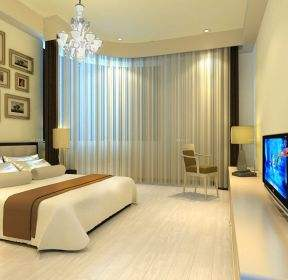床: (0, 169, 135, 256)
枕头: (1, 154, 63, 183)
灯: (56, 2, 100, 66), (231, 124, 255, 172), (49, 124, 70, 168), (202, 27, 211, 35), (116, 36, 124, 43)
